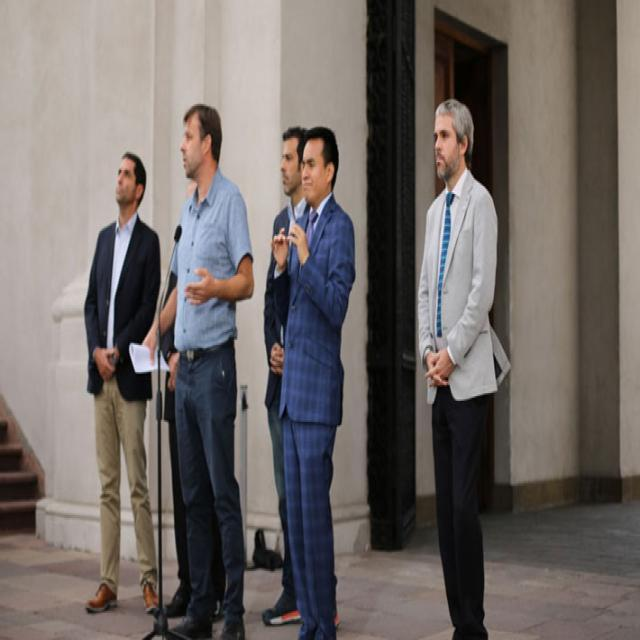person: (137, 96, 258, 640), (411, 89, 514, 640), (270, 123, 368, 640), (80, 133, 164, 630), (260, 120, 300, 631)
